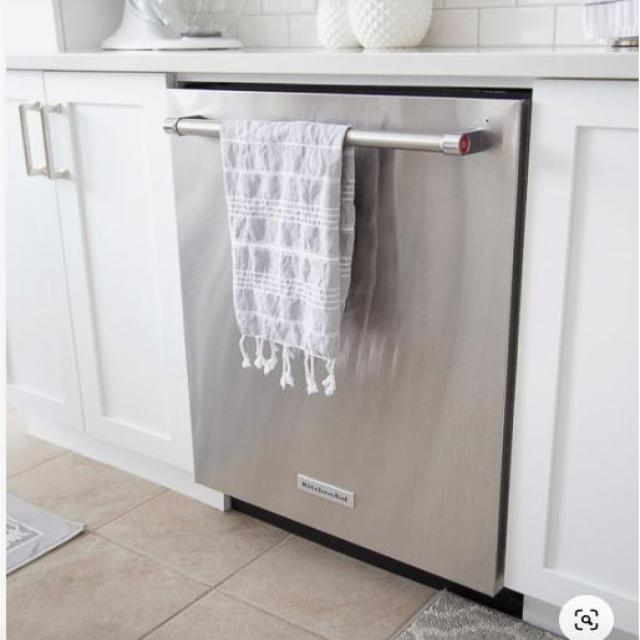dishwasher: (148, 75, 543, 600)
